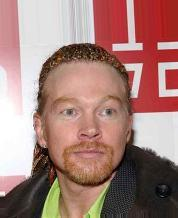face: (57, 96, 119, 160)
